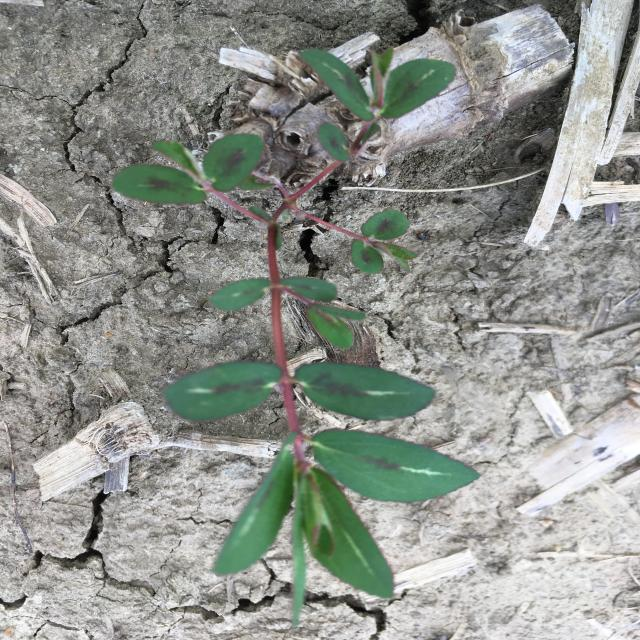SpottedSpurge: (112, 48, 481, 632)
